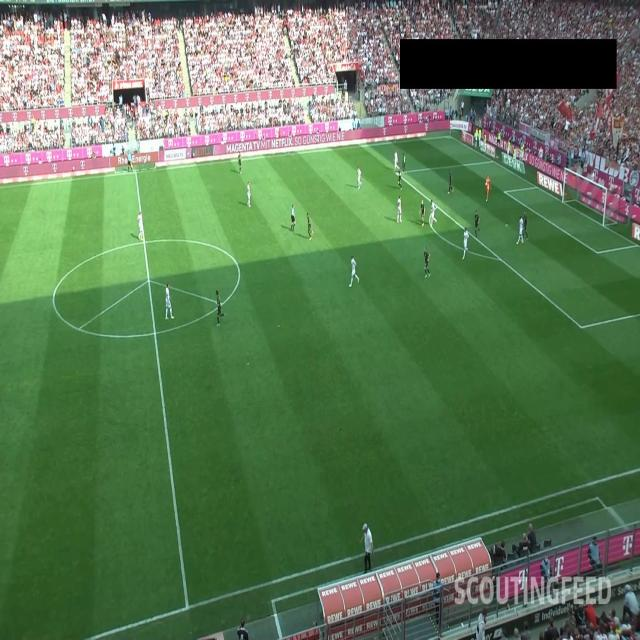ball: (485, 181, 487, 186)
